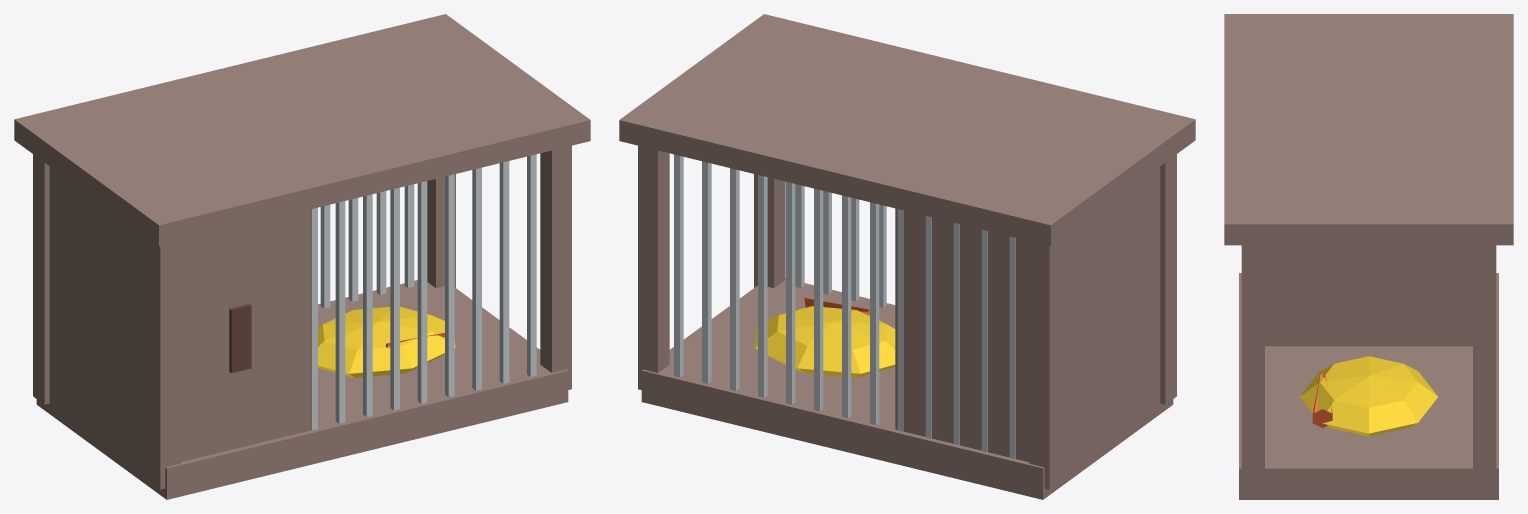
The model's file is kaninbur.glb.
3 views of the same model, side by side, from view 1: azimuth 30°, elevation 25°; view 2: azimuth 150°, elevation 25°; view 3: azimuth 270°, elevation 25° (orthographic).
Parts seen in each view (by area): view 1: kaninbur; view 2: kaninbur; view 3: kaninbur.
Part boxes in pixels (box(x1,y1,x2,y2)): kaninbur: box(14, 14, 590, 499); kaninbur: box(619, 14, 1195, 499); kaninbur: box(1224, 14, 1513, 499).
Bounding box in the file's own units: 0.86 × 0.54 × 0.5.
